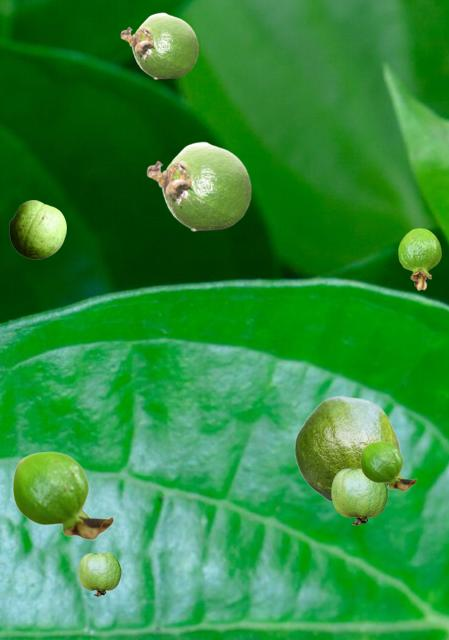guava: (294, 396, 399, 502), (146, 141, 251, 230), (12, 451, 113, 539), (120, 12, 198, 78), (9, 200, 65, 258), (331, 467, 387, 524), (360, 441, 416, 490), (398, 228, 440, 289), (78, 552, 120, 595)
